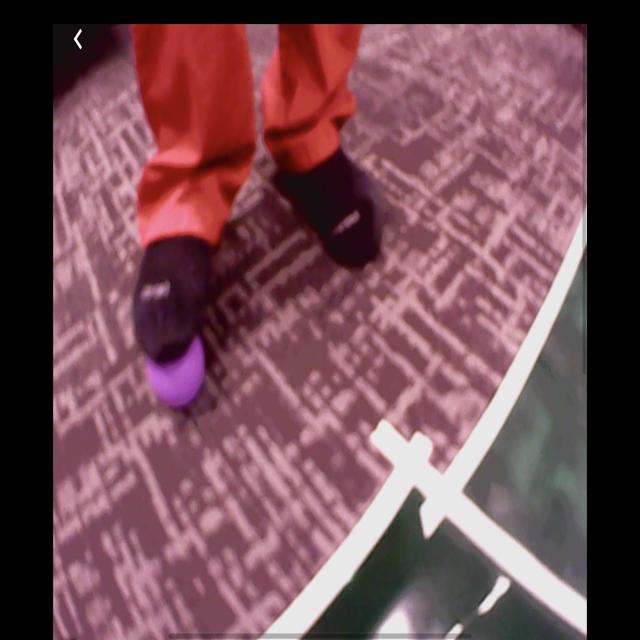ball: (145, 333, 205, 407)
